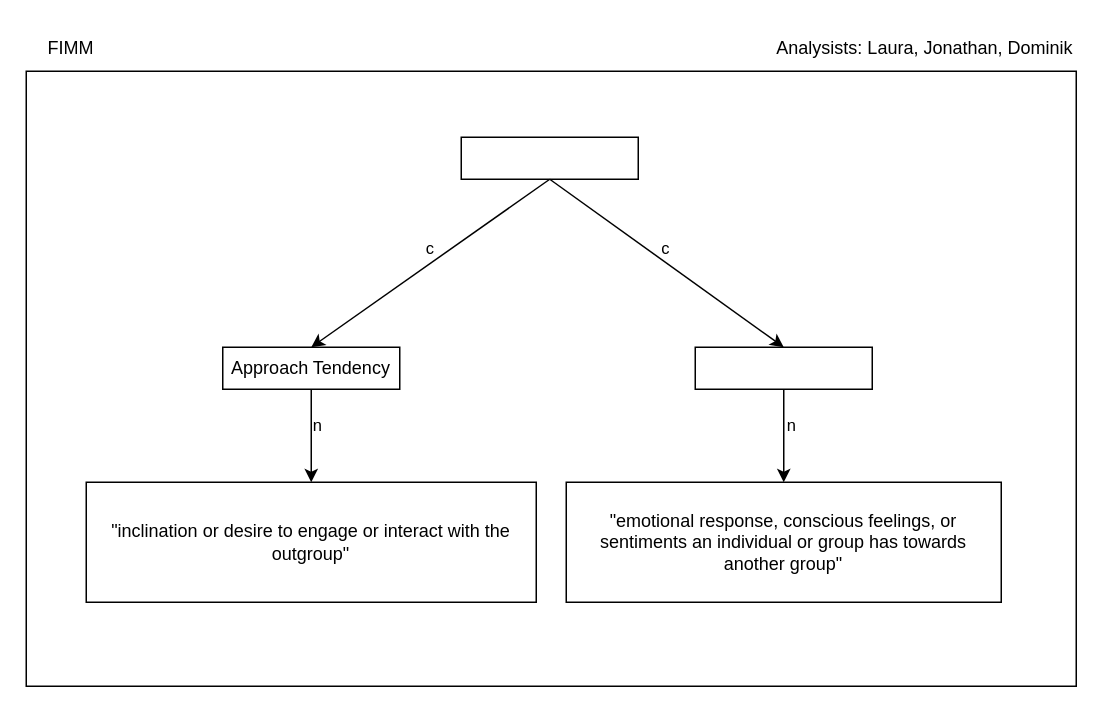
Image size: 1103x713. Some labels were removed from this diagram. The shapes that lost their labels are listed below. From the top down, each one's centre as x and y in pixels, then its label:
At [549,157]: "Mediators".
At [783,367]: "Affective Attitude".
